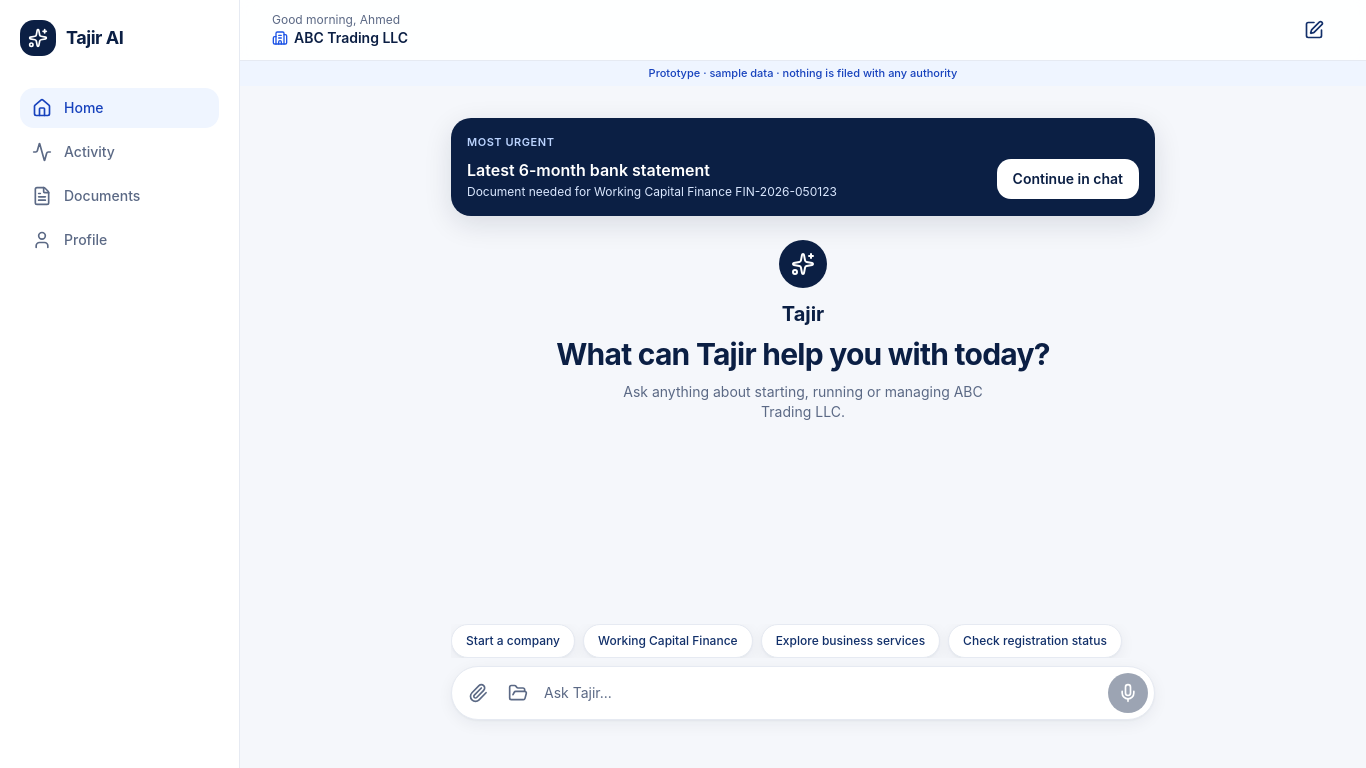
Test: home › opens the clarification in chat from the urgent card
Click the button "Continue in chat": (1068, 179) [997,159,1139,199]
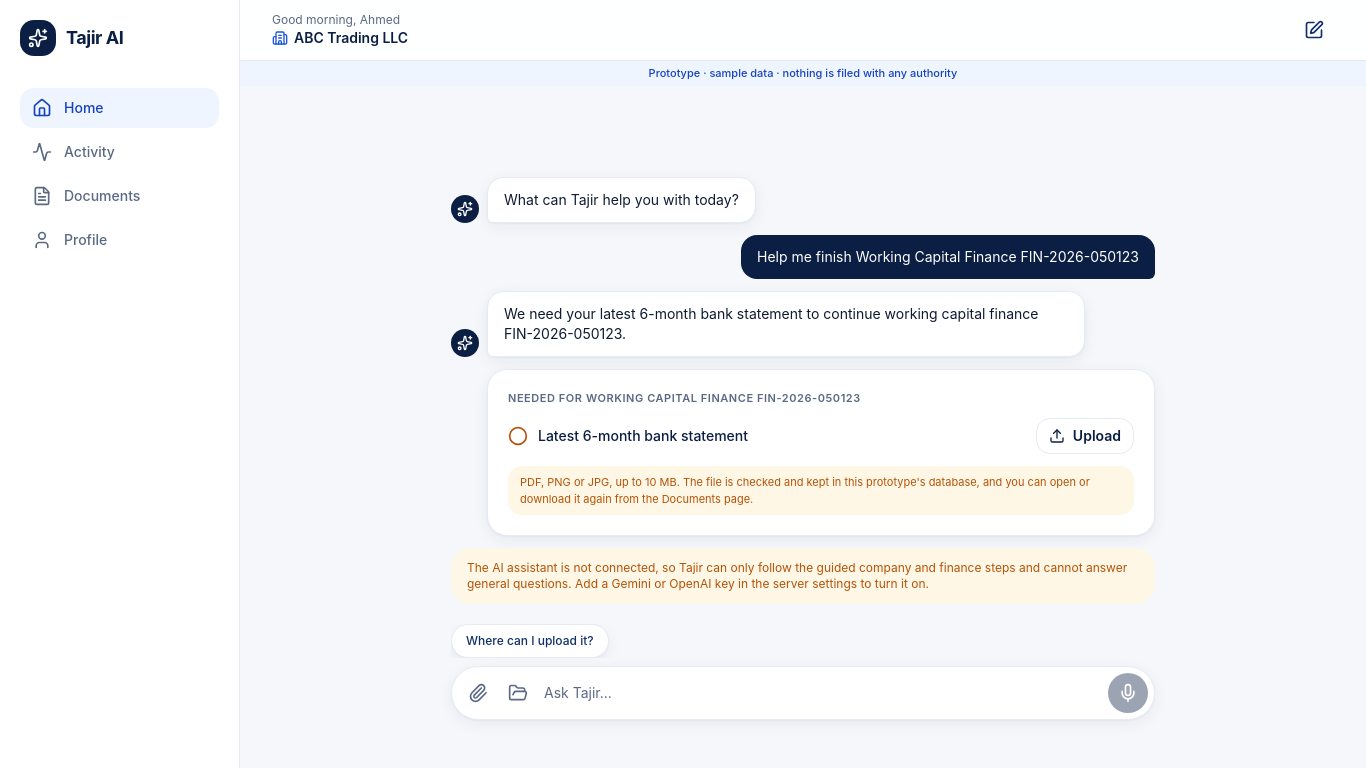
Expected: the text "We need your latest 6-month bank statement" is shown, [504,304,1042,342]
